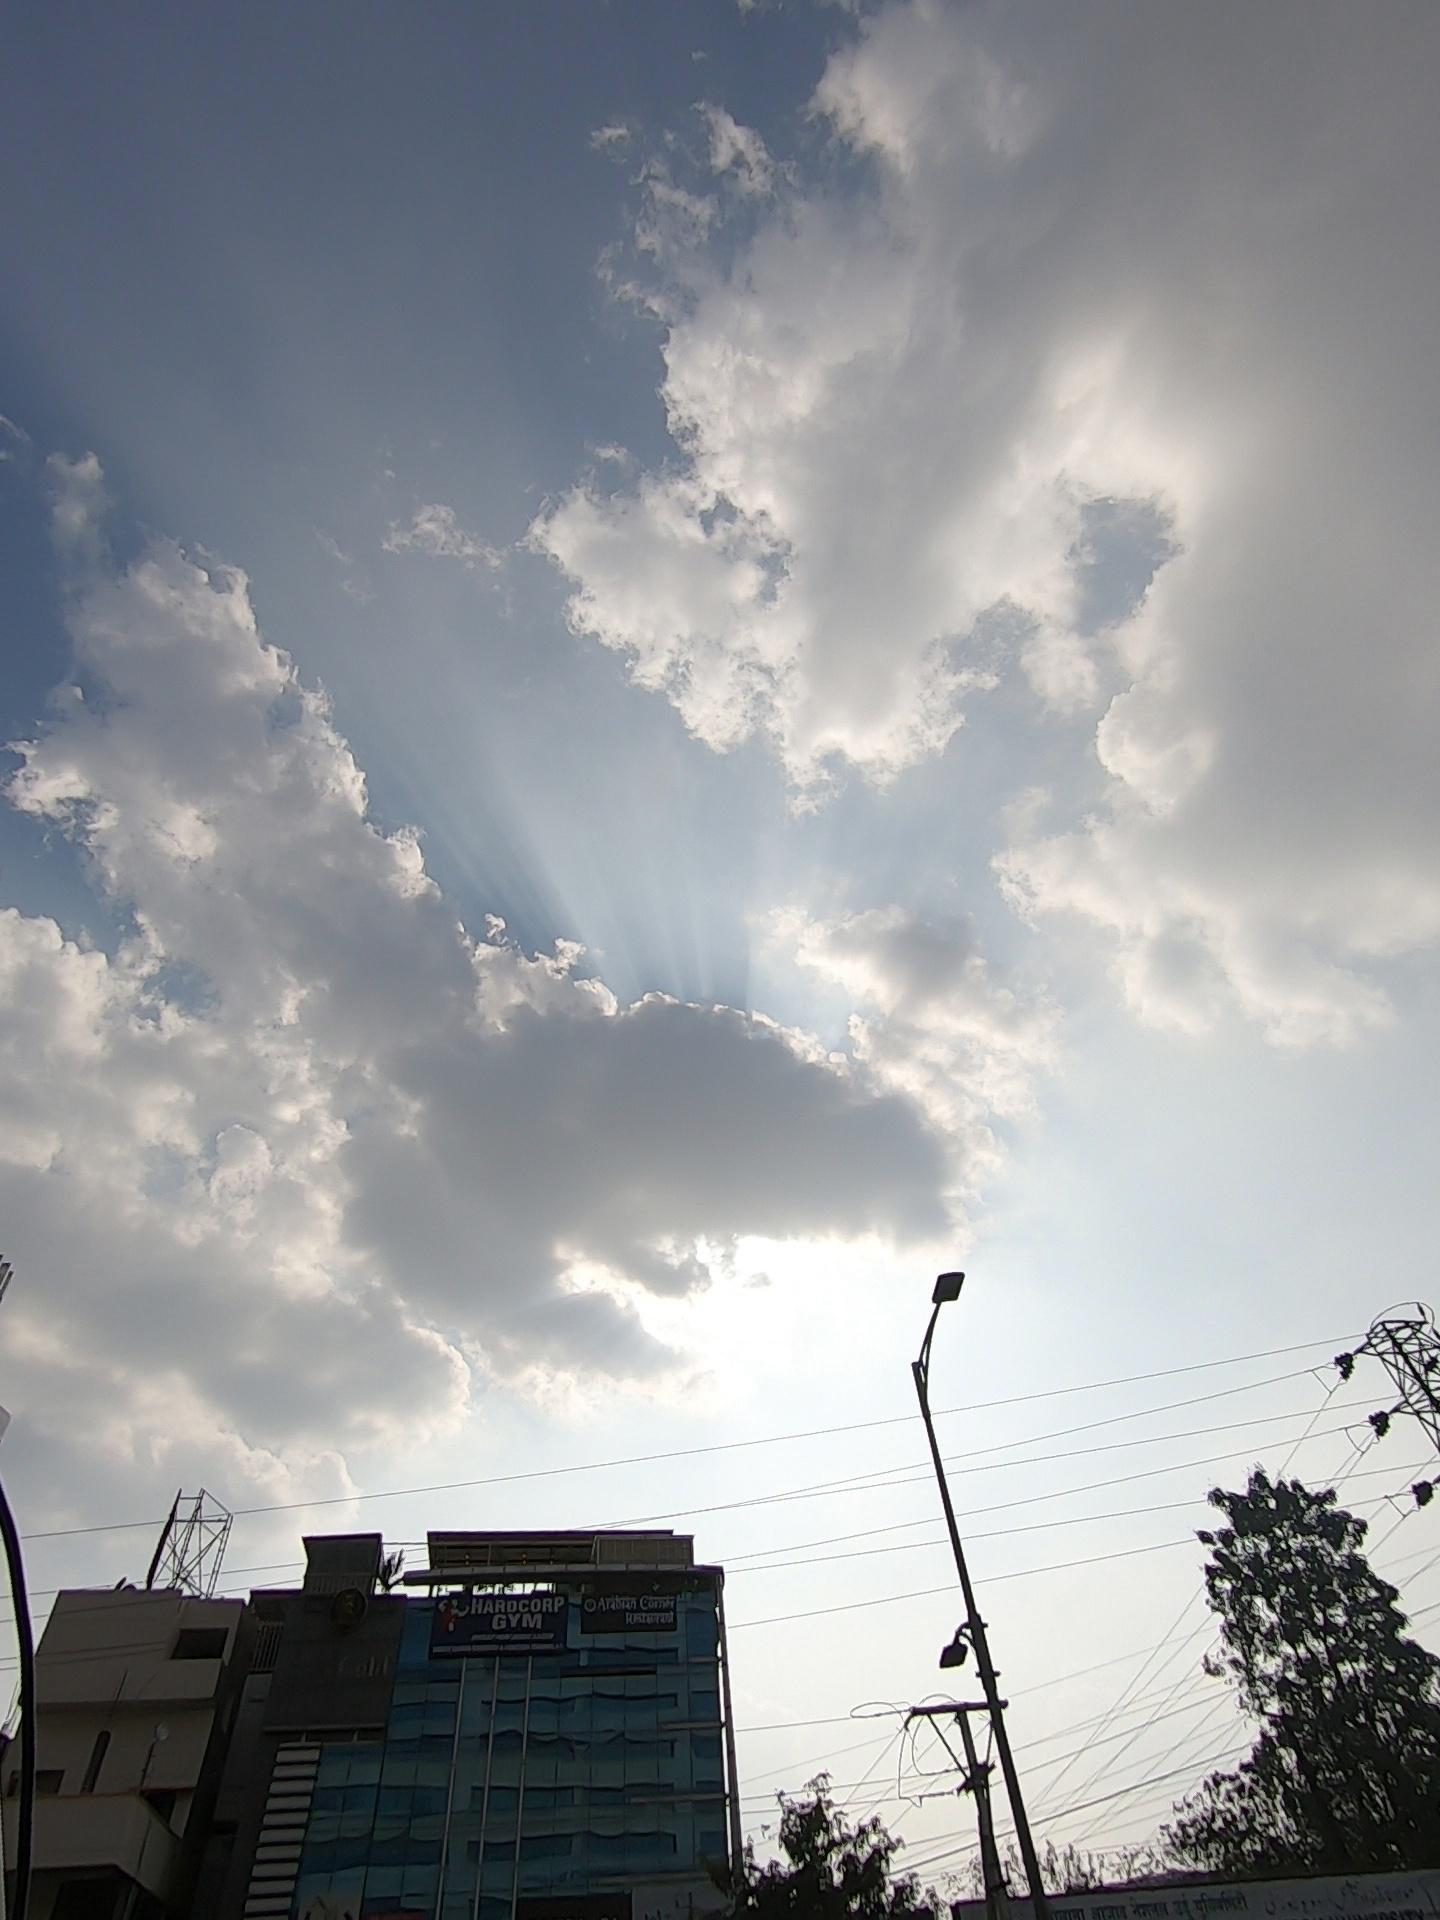off: (850, 1231, 1012, 1504)
